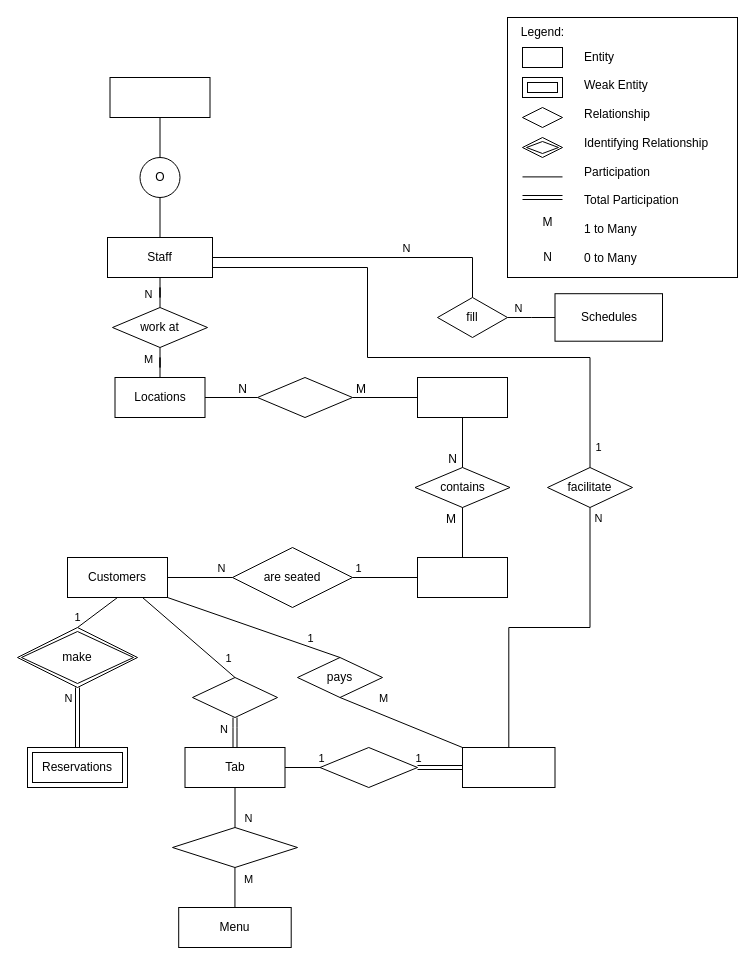
This 755x965 diagram has some shape labels left out. The shapes that lost their labels are listed below. From the top down, each one's centre as x and y in pixels, then its label:
At point 159,97: "Users".
At point 304,397: "contain".
At point 462,397: "Layout".
At point 462,577: "Tables".
At point 235,697: "have".
At point 368,767: "on payment".
At point 508,767: "Transactions".
At point 235,847: "has items from".
